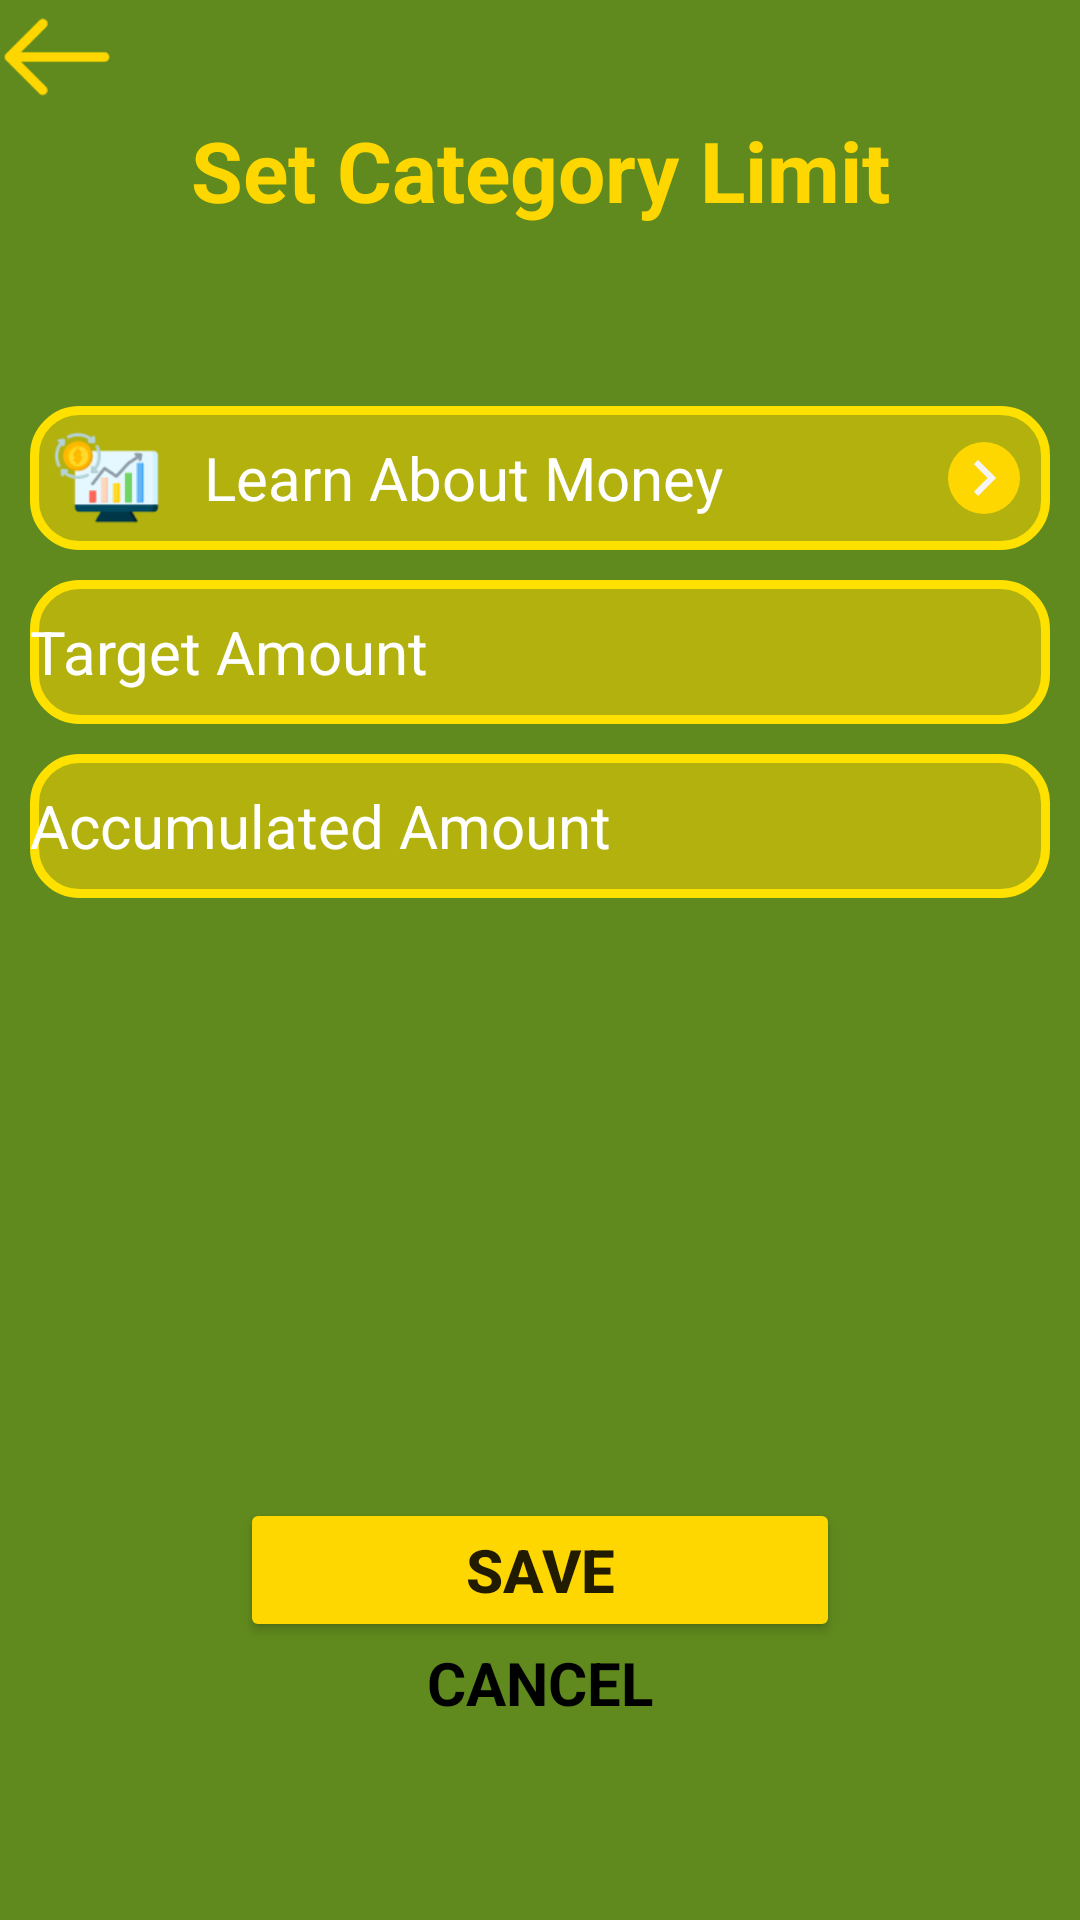

Screen size 1080 × 1920. Icon name, then its box in pixels as (x1,y1,x2,y2):
arrow right: (948,442,1020,514)
back: (4,18,110,96)
income category: (54,432,159,523)
